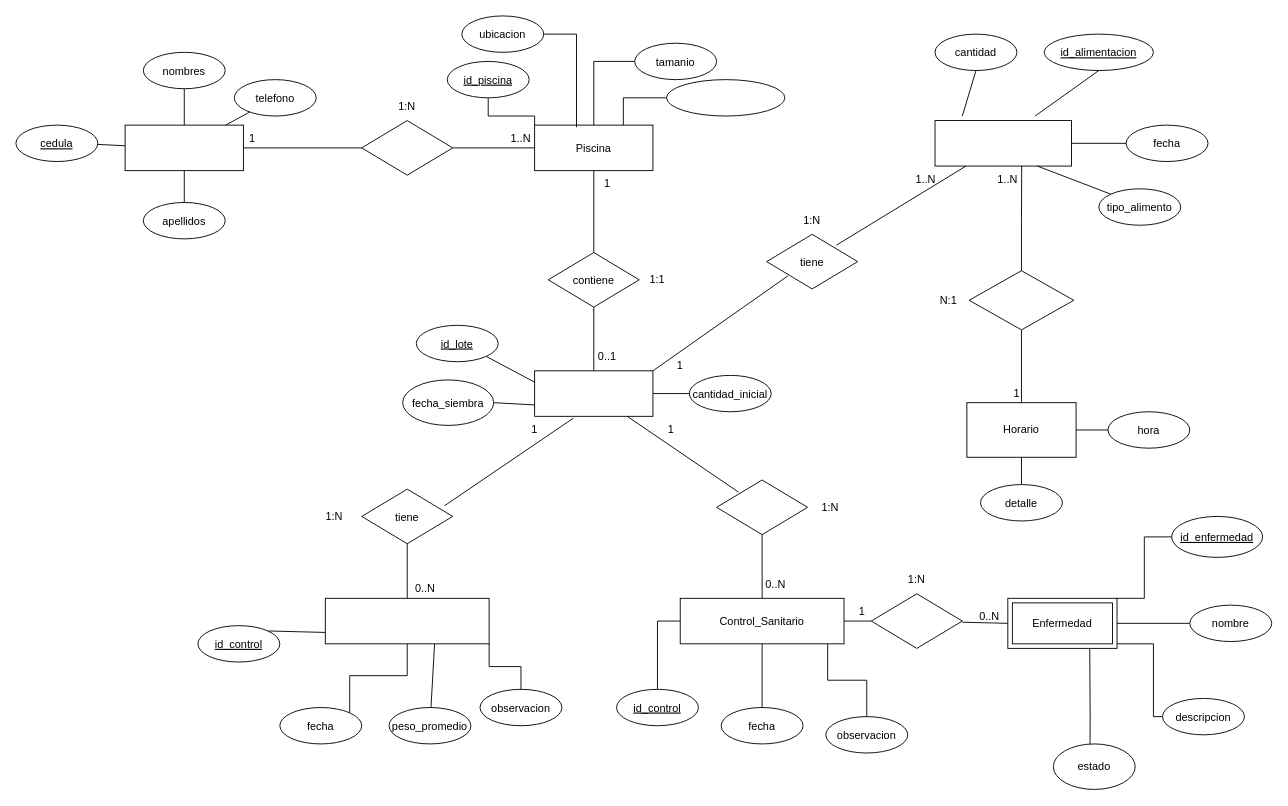
The diagram is 1288 pixels wide and 806 high, and some of its shapes have lost their labels. Each missing label, with the centre of its shape:
Alimentacion: point (1003, 143)
asociada_a: point (916, 620)
capacidad_animales: point (725, 97)
Control_Crecimiento: point (406, 620)
corresponde_a: point (1021, 300)
Encargado: point (183, 147)
Lote_Animal: point (593, 393)
presenta: point (762, 507)
supervisa: point (407, 147)
